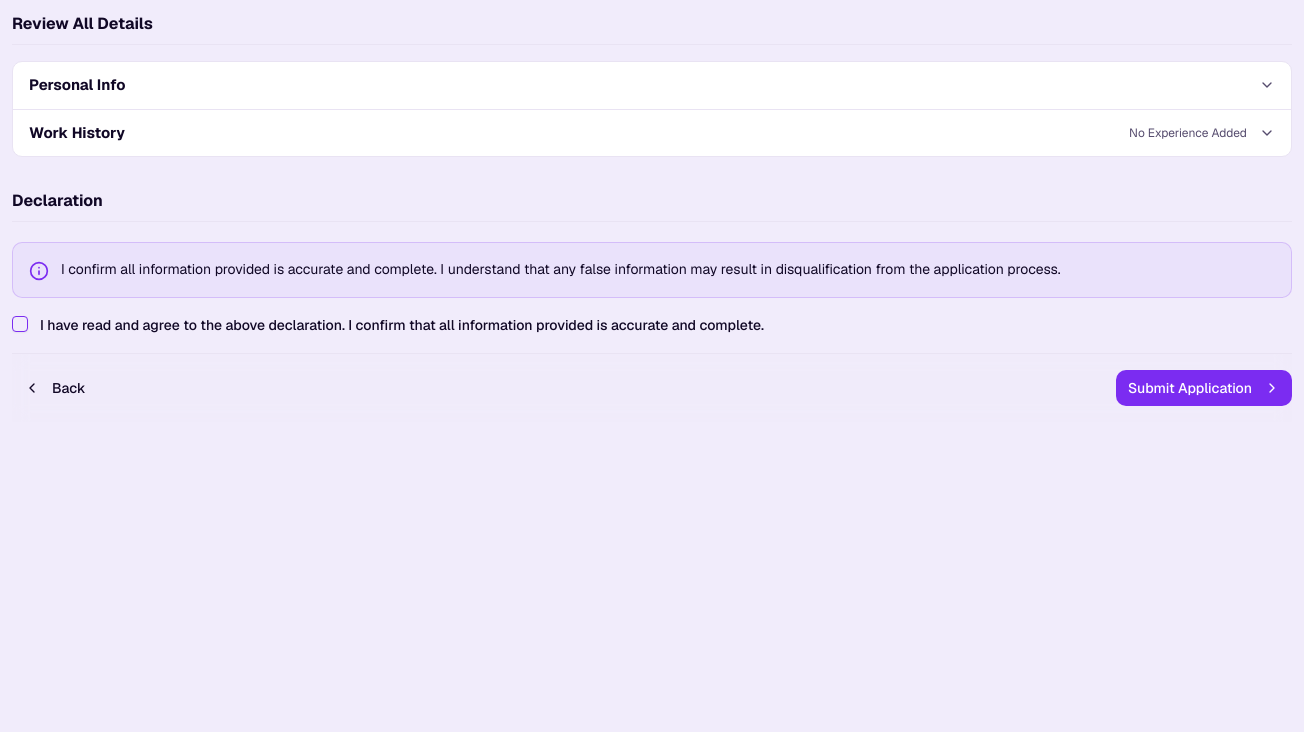
Test: JobApplicationReviewStep › displays correct summary when table field has no items added
The image size is (1304, 732).
Expected: the text "No Experience Added" is shown, [1129,125,1247,141]
Click the button "Work History No Experience Added" at (77, 132), box [13,110,1291,156]
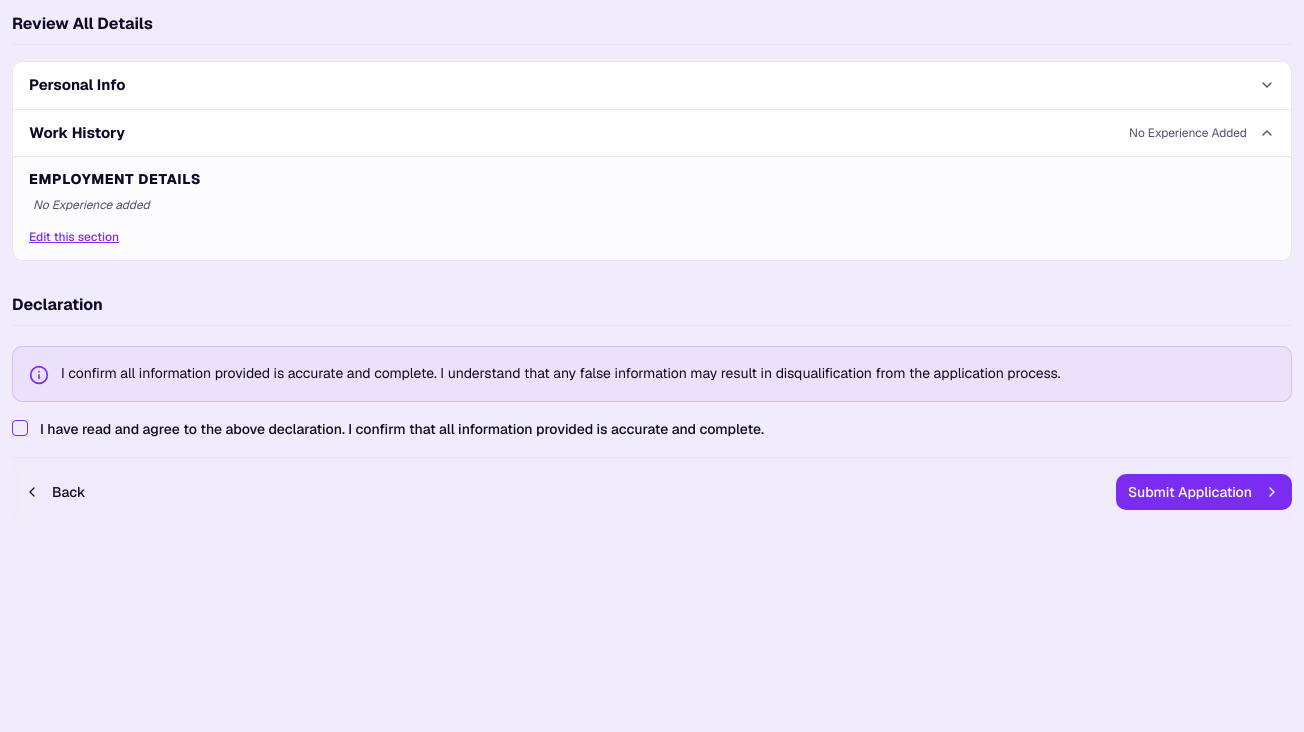
Now the text "No Experience added" is shown, box [33,197,150,213]
